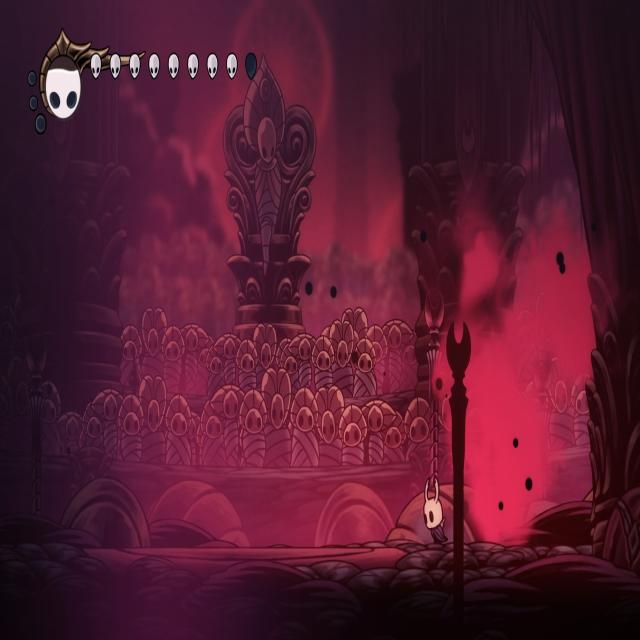Player: (419, 468, 451, 549)
